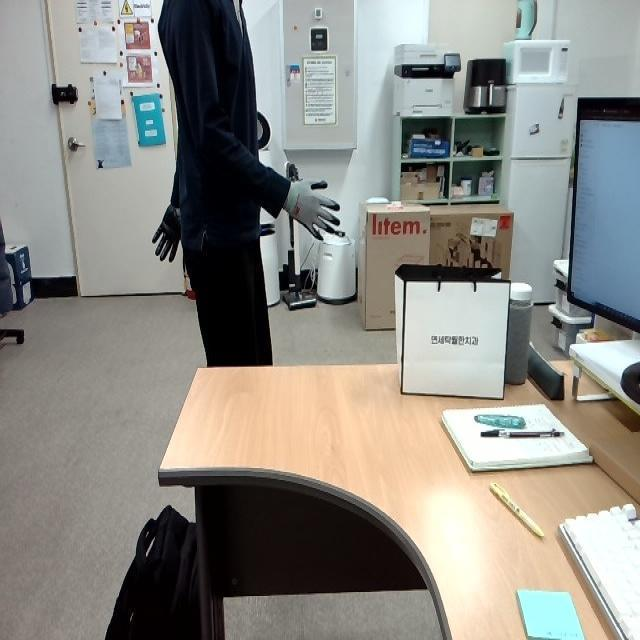gloved_hand: (281, 161, 344, 245), (146, 204, 191, 267)
